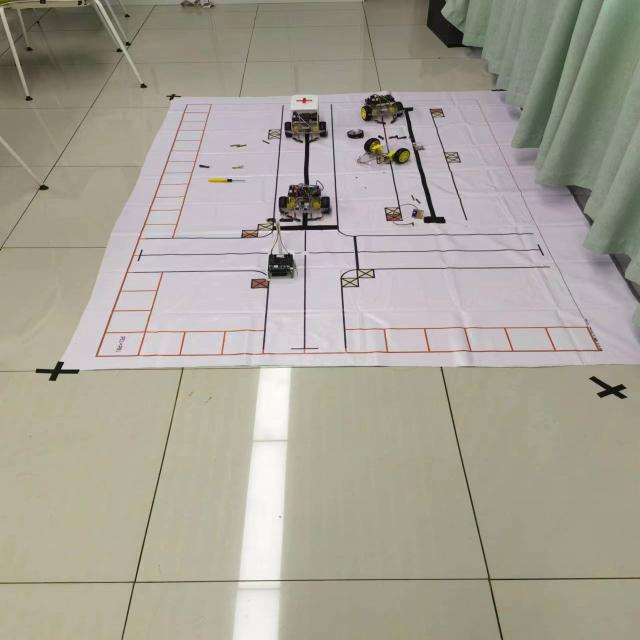RedCross: (296, 96, 314, 105)
